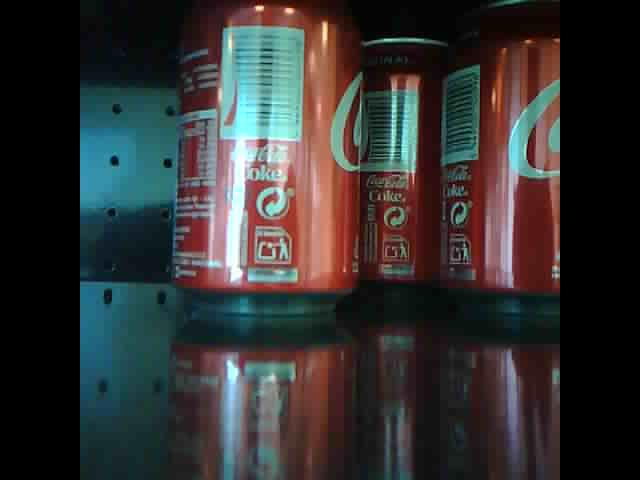coca cola: (170, 1, 365, 314), (438, 1, 560, 314), (356, 29, 447, 302)
